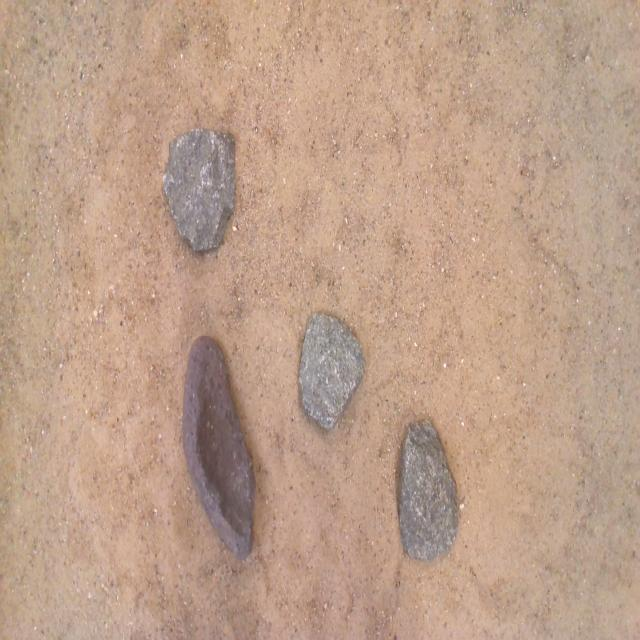rock: (183, 337, 255, 559), (163, 129, 234, 251), (399, 420, 457, 559), (299, 313, 364, 428)
